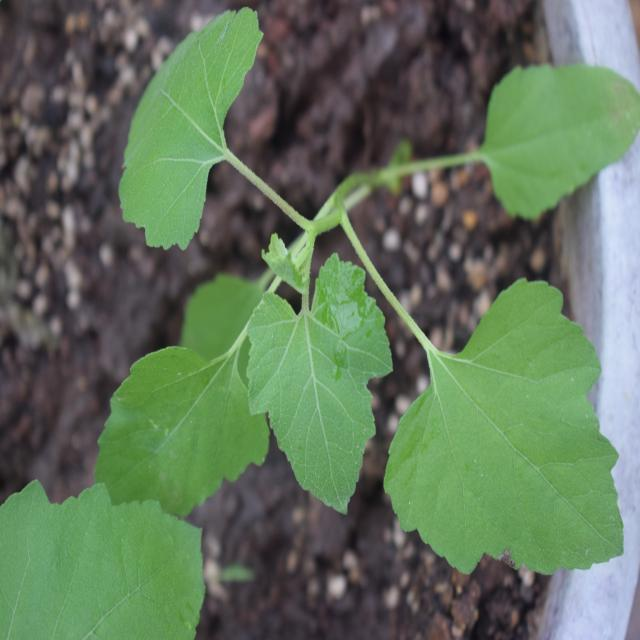cocklebur: (97, 27, 626, 570)
